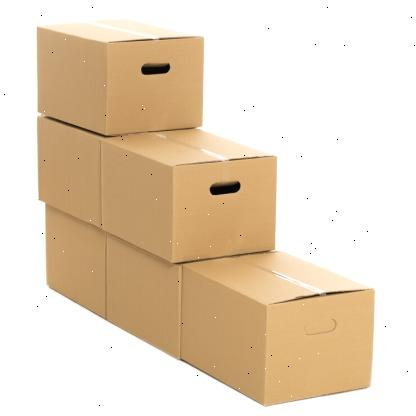box: (182, 264, 265, 408), (105, 231, 181, 360), (102, 138, 173, 262), (36, 26, 105, 134), (38, 117, 101, 229), (46, 203, 105, 318)
